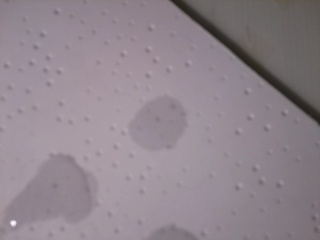Water_detected: (28, 157, 88, 213), (127, 98, 186, 145), (152, 220, 190, 240)
